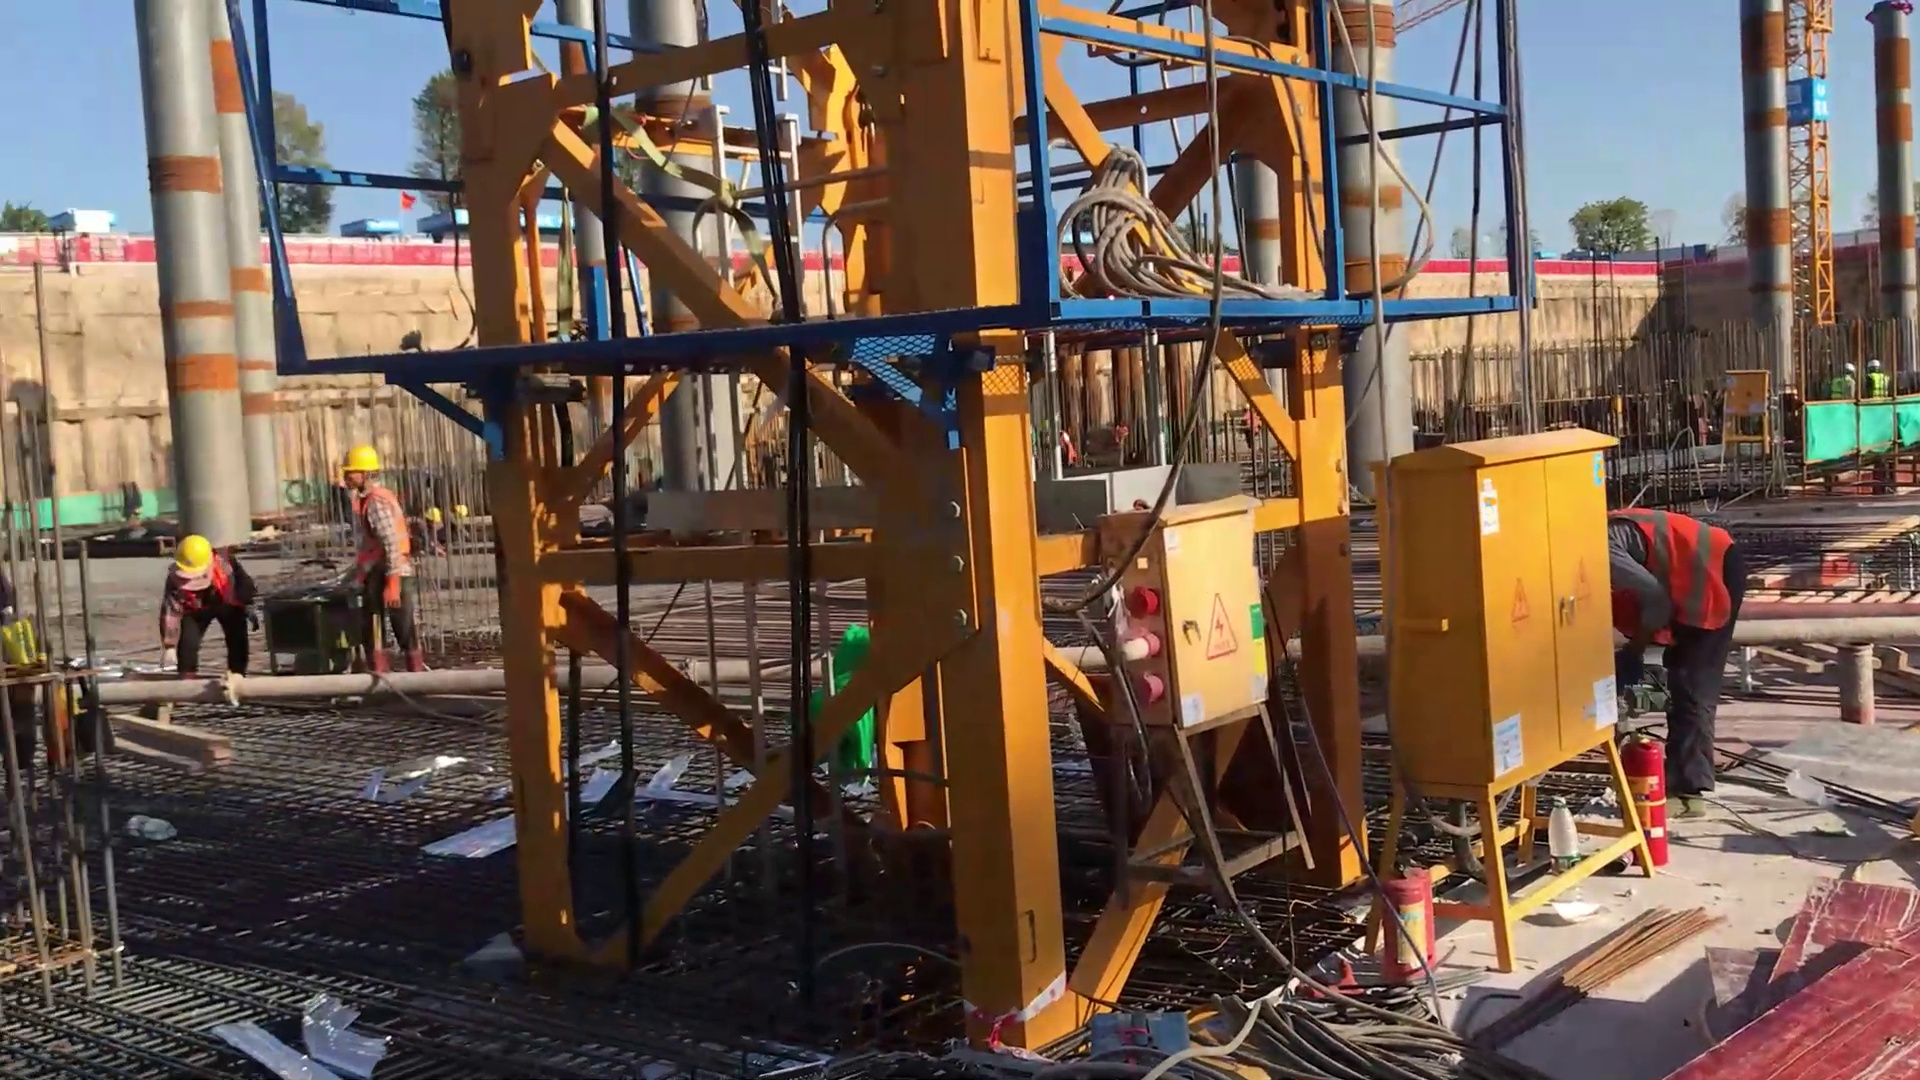ebox: (1388, 391, 1690, 948), (1079, 469, 1313, 787), (1718, 357, 1786, 467)
fence: (282, 234, 448, 266), (1526, 257, 1658, 271), (1419, 263, 1505, 274)
helmet: (167, 530, 221, 587), (340, 439, 382, 475), (1867, 358, 1883, 369), (1843, 360, 1856, 374)
person: (1608, 493, 1755, 822), (330, 441, 440, 675), (143, 527, 262, 708), (1865, 357, 1893, 403), (1836, 361, 1859, 403)
slogan: (1787, 75, 1833, 121)
vest: (1614, 506, 1742, 638), (351, 484, 410, 581), (168, 559, 242, 612), (1835, 372, 1856, 400), (1868, 371, 1890, 395)
